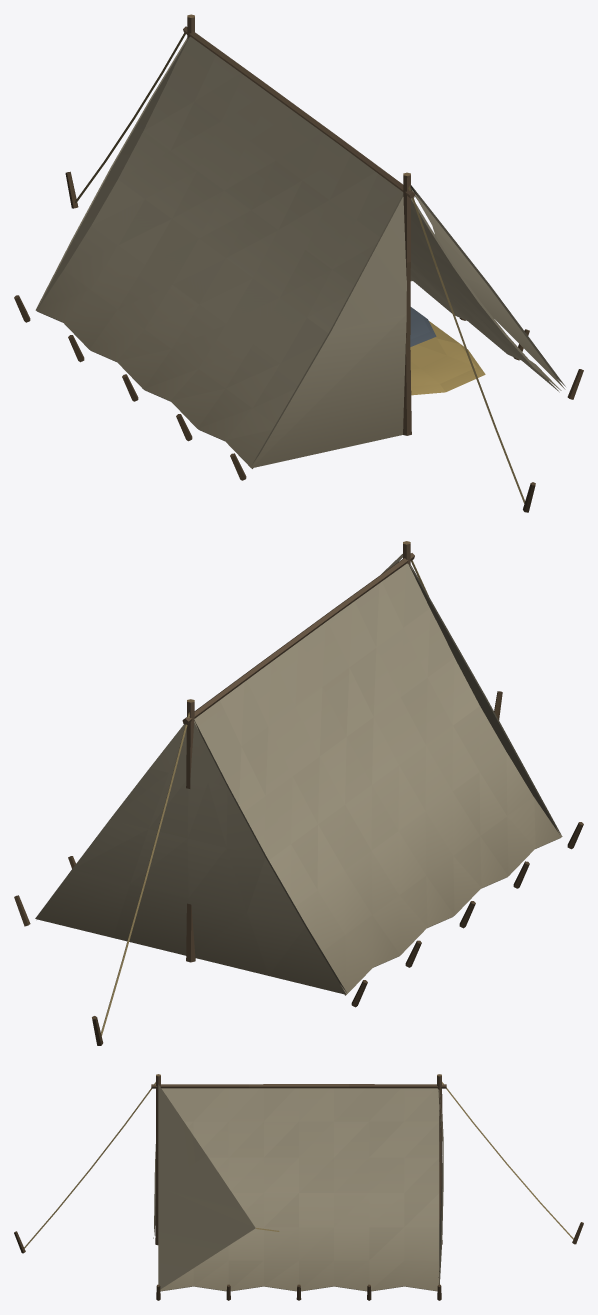
File: carpa_tropa.glb
3 renders of one model, top to bottom at view 1: azimuth 30°, elevation 25°; view 2: azimuth 150°, elevation 25°; view 3: azimuth 270°, elevation 25°, orthographic. The views are drawn at different scales.
Visible parts, largest first — view 1: CarpaTropa; view 2: CarpaTropa; view 3: CarpaTropa.
Boxes of the visible parts, x1,y1,x2,y2 form: CarpaTropa: (14, 14, 583, 512); CarpaTropa: (14, 541, 583, 1045); CarpaTropa: (14, 1074, 583, 1300).
Size of what is drawn, in the model's own units: 2.27 by 1.63 by 4.87.
